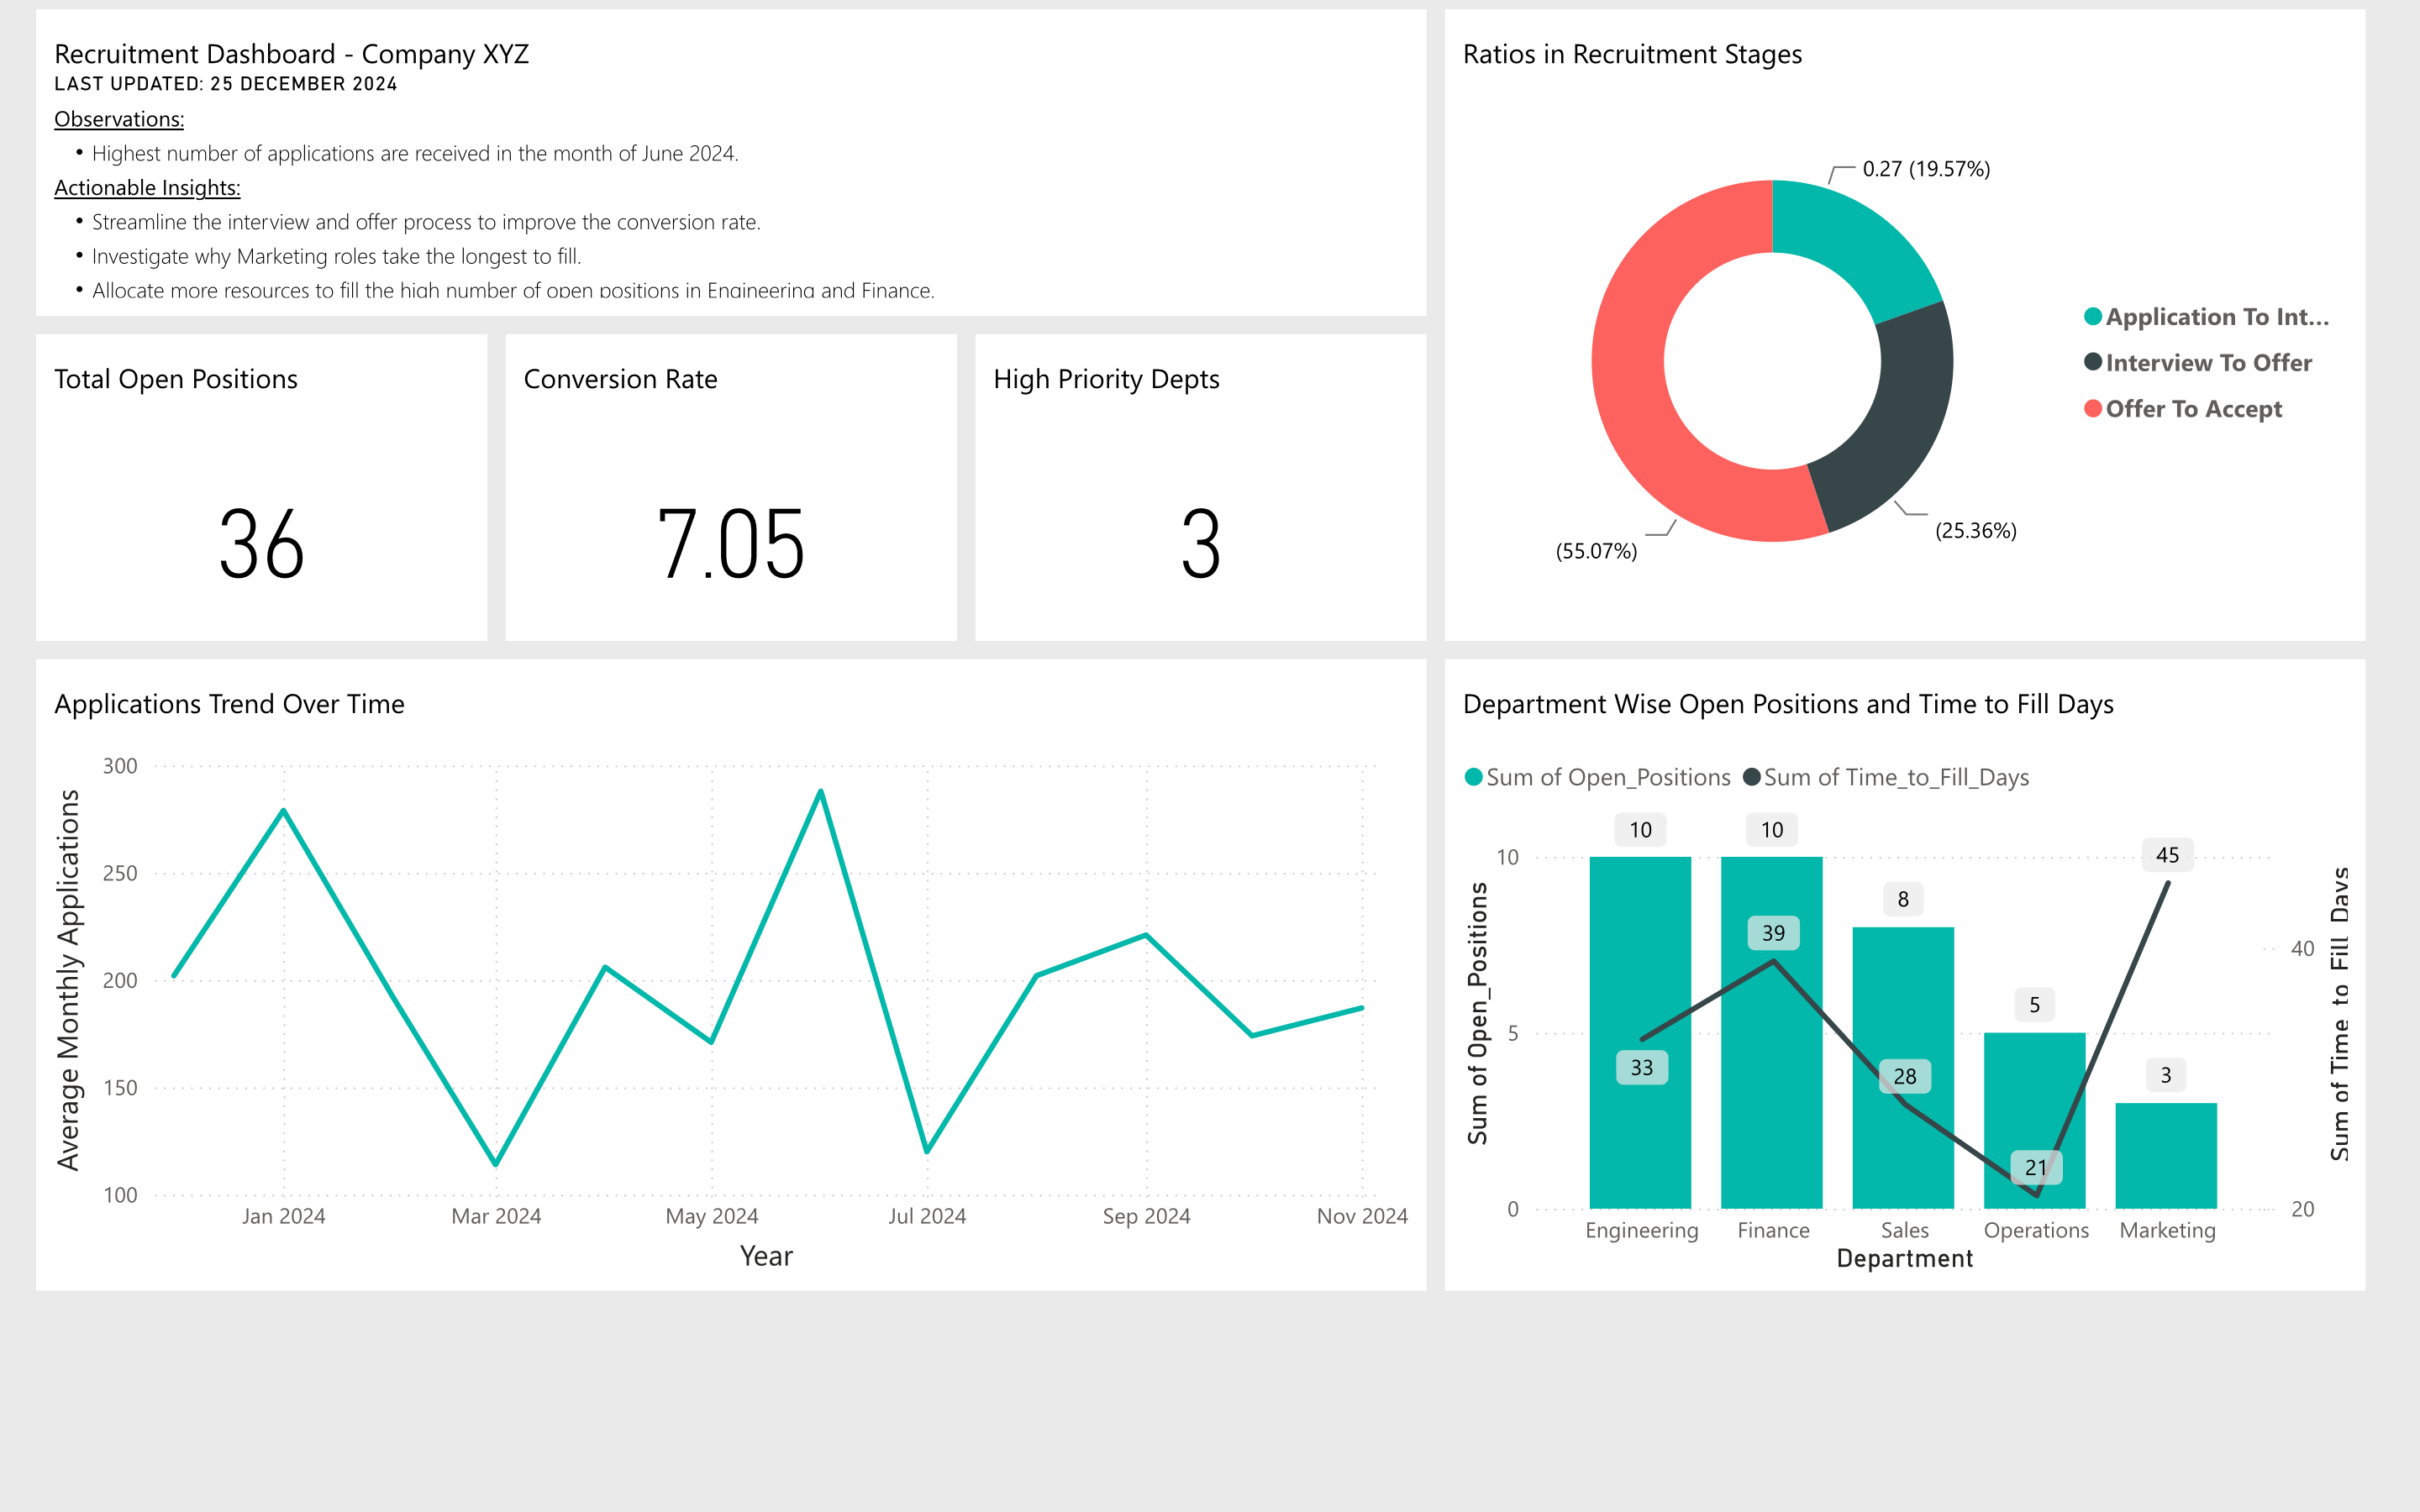

What the dashboard file says about the page in this screenshot:
{"tool":"powerbi","page":{"name":"Recruitment Dashboard","canvas":[1280,720],"ordinal":0},"visuals":[{"type":"textbox","box":[76,0,1124.8,79.1],"z":0},{"type":"card","fields":{"Values":["recruitment_metrics.Conversion Rate"]},"box":[265.3,80.7,186.2,139.6],"z":1000},{"type":"lineChart","title":"Applications Trend Over Time","fields":{"Y":["recruitment_metrics.Average Monthly Applications"],"Category":["recruitment_metrics.Date.Variation.Date Hierarchy.Year","recruitment_metrics.Date.Variation.Date Hierarchy.Month"]},"box":[76,268.4,564.8,398.7],"z":2000},{"type":"donutChart","title":"Ratios in Recruitment Stages","fields":{"Y":["recruitment_metrics.Application To Interview","recruitment_metrics.Interview To Offer","recruitment_metrics.Offer To Accept"]},"box":[640.8,82.2,614.4,277.7],"z":3000},{"type":"card","fields":{"Values":["department_positions.Total Open Positions"]},"box":[76,79.1,173.8,142.7],"z":4000},{"type":"card","fields":{"Values":["department_positions.High Priority Depts"]},"box":[473.2,93.1,164.5,114.8],"z":5000},{"type":"lineStackedColumnComboChart","title":"Department Wise Open Positions and Time to Fill Days","fields":{"Category":["department_positions.Department"],"Y":["Sum(department_positions.Open_Positions)"],"Y2":["Sum(department_positions.Time_to_Fill_Days)"]},"box":[641,360,614,307],"z":6000}]}

Visuals, with their boxes on the page's 1280x720 design canvas (x1, y1, x2, y2). These are canvas units, not pixel positions in the 2420x1512 screenshot, which may show the page scaled, cropped or inside an application window:
textbox: detection(76, 0, 1201, 79)
card - recruitment_metrics.Conversion Rate: detection(265, 81, 452, 220)
"Applications Trend Over Time" lineChart: detection(76, 268, 641, 667)
"Ratios in Recruitment Stages" donutChart: detection(641, 82, 1255, 360)
card - department_positions.Total Open Positions: detection(76, 79, 250, 222)
card - department_positions.High Priority Depts: detection(473, 93, 638, 208)
"Department Wise Open Positions and Time to Fill Days" lineStackedColumnComboChart: detection(641, 360, 1255, 667)
